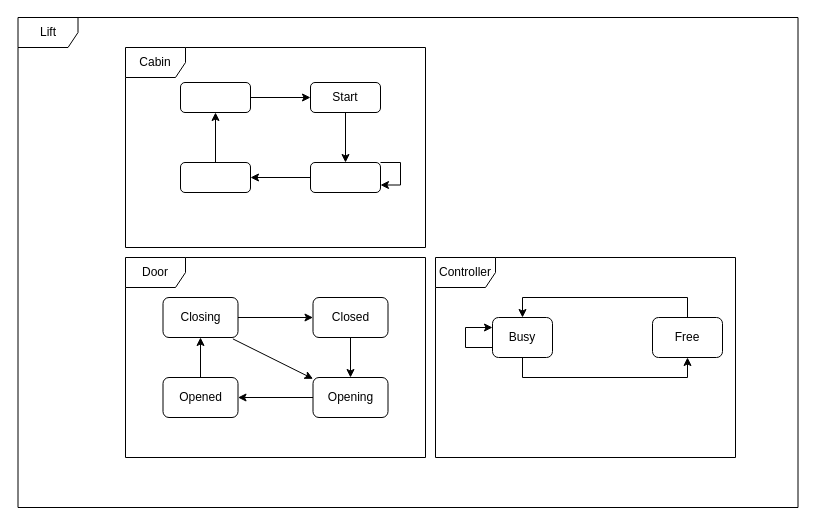
This 815x525 diagram has some shape labels left out. The centre of each missing label's shape, as x and y in pixels:
"Move" belongs at (345,177).
"Stoped" belongs at (215,177).
"Wait" belongs at (215,97).
